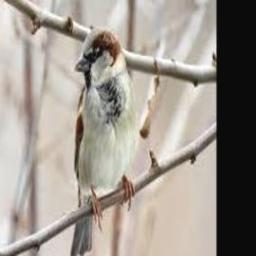Sparrow: (70, 27, 136, 256)
